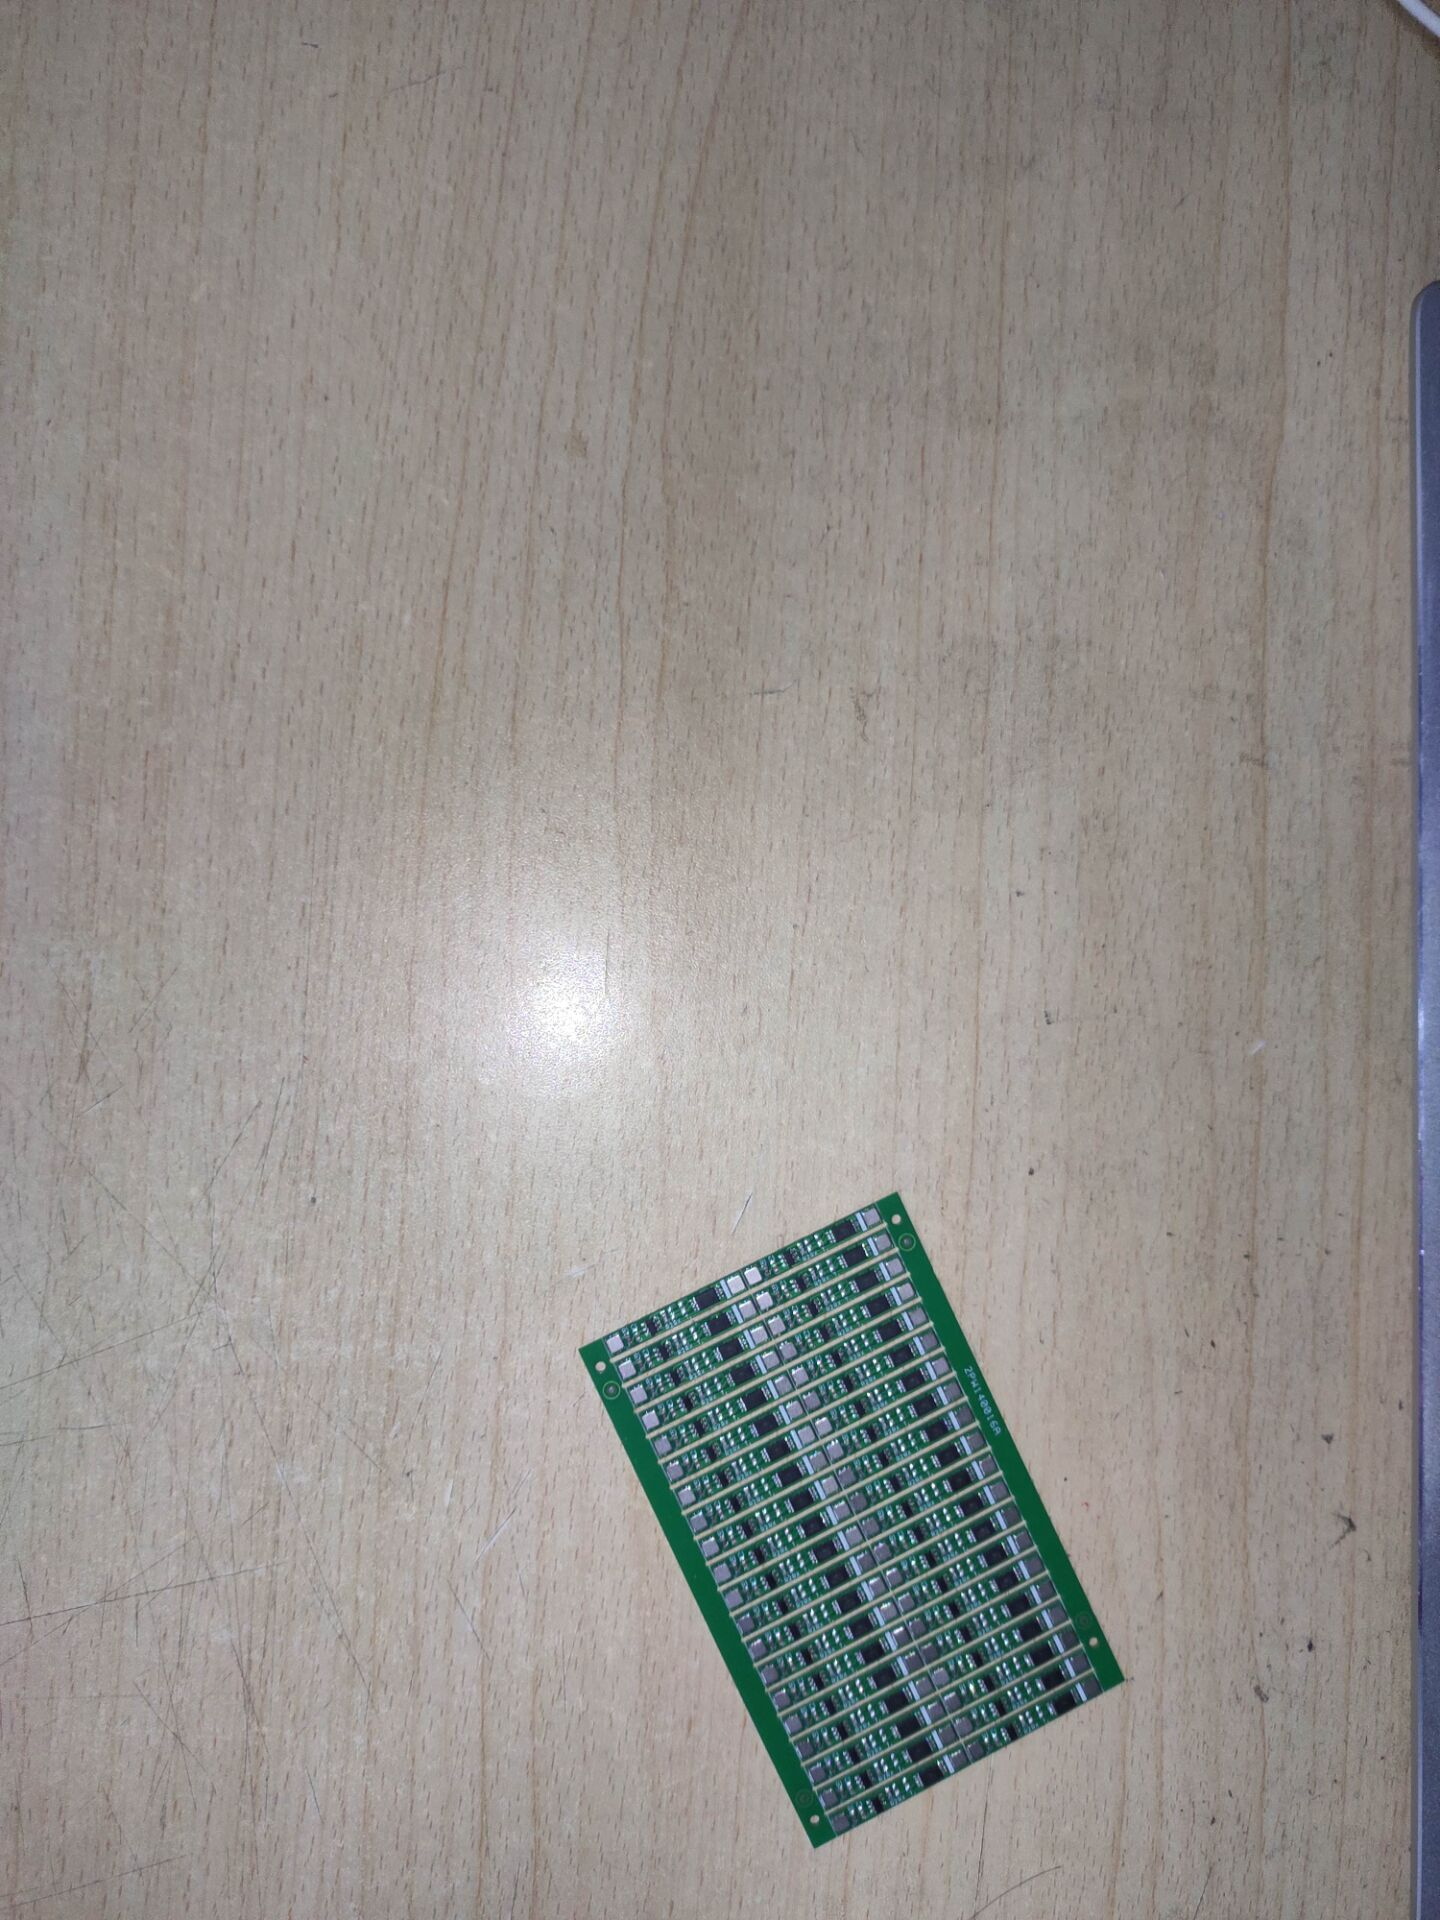point: (1000, 1504, 1022, 1527), (964, 1429, 984, 1453), (1011, 1527, 1032, 1551), (931, 1354, 951, 1378), (977, 1453, 998, 1476), (952, 1406, 975, 1426), (832, 1810, 851, 1834), (908, 1306, 928, 1327), (941, 1380, 962, 1402), (1023, 1554, 1044, 1576), (1080, 1677, 1101, 1698), (938, 1724, 959, 1745), (944, 1691, 964, 1714), (809, 1762, 829, 1784), (895, 1281, 915, 1301), (989, 1480, 1011, 1500), (1059, 1628, 1079, 1649), (1070, 1652, 1089, 1673), (932, 1666, 951, 1687), (784, 1715, 803, 1735), (701, 1539, 721, 1558), (903, 1651, 923, 1671), (884, 1567, 903, 1587), (872, 1542, 891, 1562), (857, 1551, 877, 1571), (1035, 1583, 1056, 1601), (728, 1275, 746, 1295), (966, 1740, 985, 1761), (892, 1625, 911, 1646), (881, 1602, 902, 1620), (690, 1512, 708, 1533), (787, 1399, 804, 1420), (641, 1411, 660, 1432), (775, 1374, 793, 1395), (769, 1316, 786, 1336), (751, 1325, 769, 1345), (606, 1334, 624, 1355), (678, 1485, 695, 1507), (928, 1701, 947, 1720), (898, 1592, 917, 1612), (845, 1527, 863, 1546), (814, 1417, 833, 1435), (798, 1425, 817, 1446), (803, 1392, 821, 1412), (630, 1385, 648, 1405), (792, 1366, 810, 1387), (737, 1300, 757, 1318), (887, 1257, 903, 1277), (745, 1266, 763, 1286), (916, 1675, 934, 1696), (923, 1641, 939, 1661), (910, 1616, 927, 1637), (861, 1519, 882, 1536), (839, 1467, 856, 1488), (821, 1476, 838, 1496), (619, 1359, 636, 1380), (754, 1291, 775, 1308), (920, 1331, 938, 1349), (821, 1788, 840, 1807), (724, 1590, 743, 1609), (850, 1493, 868, 1512), (834, 1501, 852, 1520), (654, 1437, 671, 1456), (1049, 1604, 1066, 1624), (869, 1576, 887, 1595), (764, 1350, 779, 1371), (863, 1210, 882, 1226), (875, 1233, 892, 1251), (951, 1750, 968, 1769), (957, 1717, 975, 1734), (797, 1740, 814, 1758), (750, 1641, 767, 1658), (737, 1616, 755, 1633), (714, 1564, 730, 1583), (810, 1452, 828, 1469), (667, 1462, 683, 1480), (780, 1342, 797, 1359), (774, 1693, 791, 1709), (761, 1667, 778, 1683), (827, 1442, 843, 1459)
